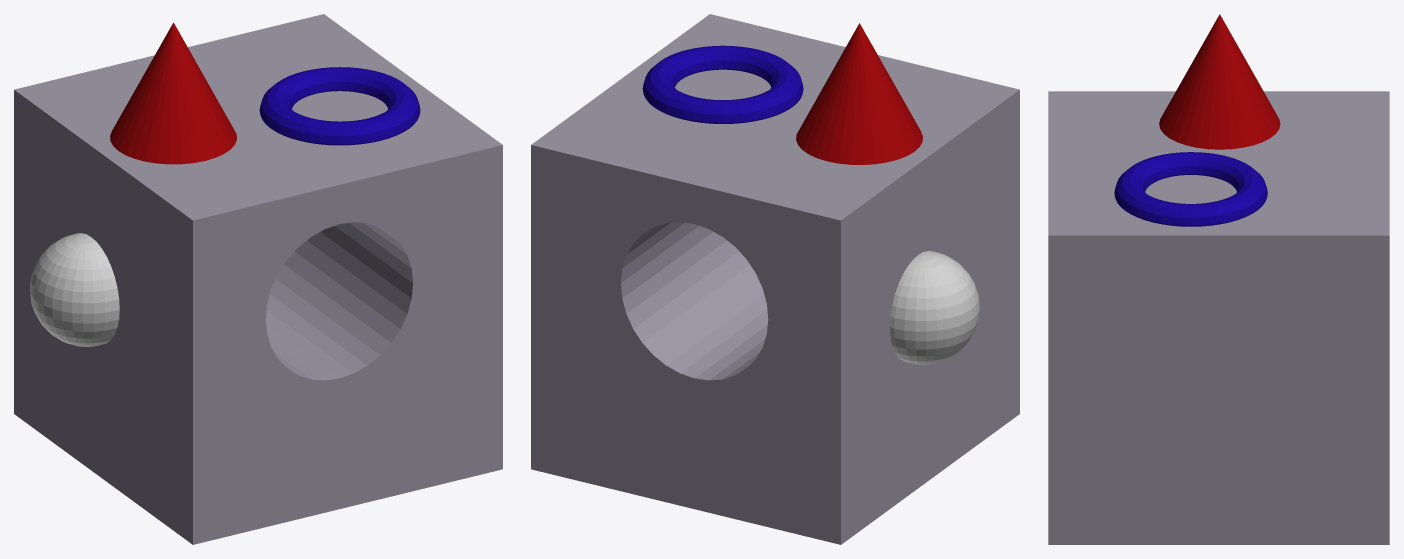
The model's file is blendertest.obj.
3 renders of one model, left to right at view 1: azimuth 30°, elevation 25°; view 2: azimuth 150°, elevation 25°; view 3: azimuth 270°, elevation 25°, orthographic. The views are drawn at different scales.
Visible parts, largest first — view 1: Cube, Cone, Sphere, Torus; view 2: Cube, Cone, Sphere, Torus; view 3: Cube, Cone, Torus.
Boxes of the visible parts, left/top/right/bottom form: Cube: left=14, top=14, right=502, bottom=544; Cone: left=110, top=22, right=236, bottom=164; Sphere: left=30, top=233, right=119, bottom=346; Torus: left=259, top=67, right=420, bottom=145; Cube: left=531, top=14, right=1019, bottom=544; Cone: left=796, top=23, right=922, bottom=164; Sphere: left=890, top=251, right=979, bottom=364; Torus: left=642, top=45, right=803, bottom=123; Cube: left=1048, top=91, right=1389, bottom=544; Cone: left=1159, top=14, right=1280, bottom=149; Torus: left=1114, top=152, right=1267, bottom=226.
Bounding box in the file's own units: 2.35 × 2.71 × 2.
